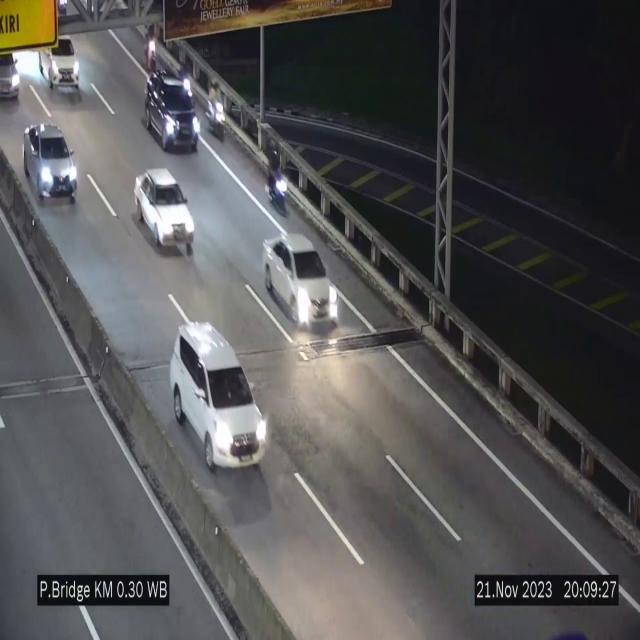Car: (170, 323, 268, 469), (264, 234, 338, 330), (134, 169, 195, 252), (144, 67, 200, 150), (38, 23, 87, 109), (24, 123, 78, 200), (0, 35, 28, 103)
Motorcycle: (205, 79, 227, 146), (268, 148, 288, 217), (140, 26, 162, 70)
